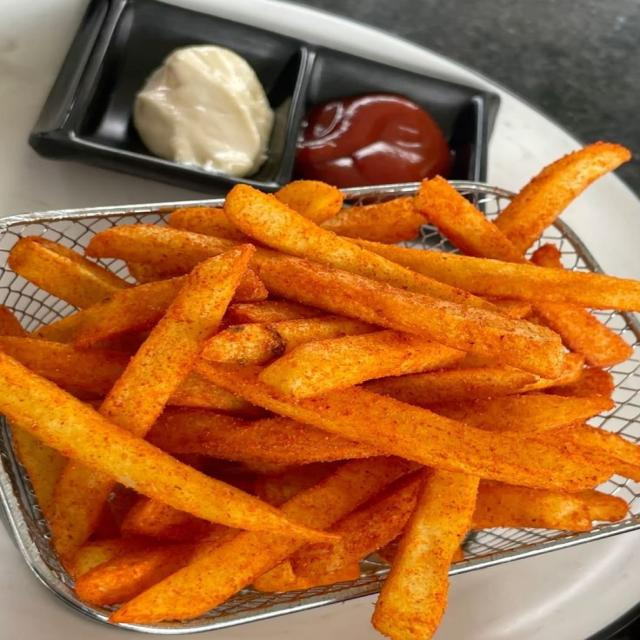potato fries: (0, 144, 639, 639), (0, 352, 323, 538), (197, 363, 612, 490), (255, 252, 565, 377), (225, 186, 490, 308), (100, 248, 252, 437), (353, 241, 639, 310), (373, 470, 479, 639), (110, 532, 303, 623), (496, 143, 631, 251), (260, 331, 464, 397), (148, 410, 380, 464), (366, 355, 583, 407), (416, 177, 524, 262), (8, 237, 128, 308), (203, 316, 375, 364), (431, 393, 613, 433), (536, 303, 633, 367), (321, 198, 425, 242), (275, 181, 343, 223), (168, 207, 246, 242), (227, 301, 324, 324), (547, 368, 614, 397), (0, 305, 26, 337)
